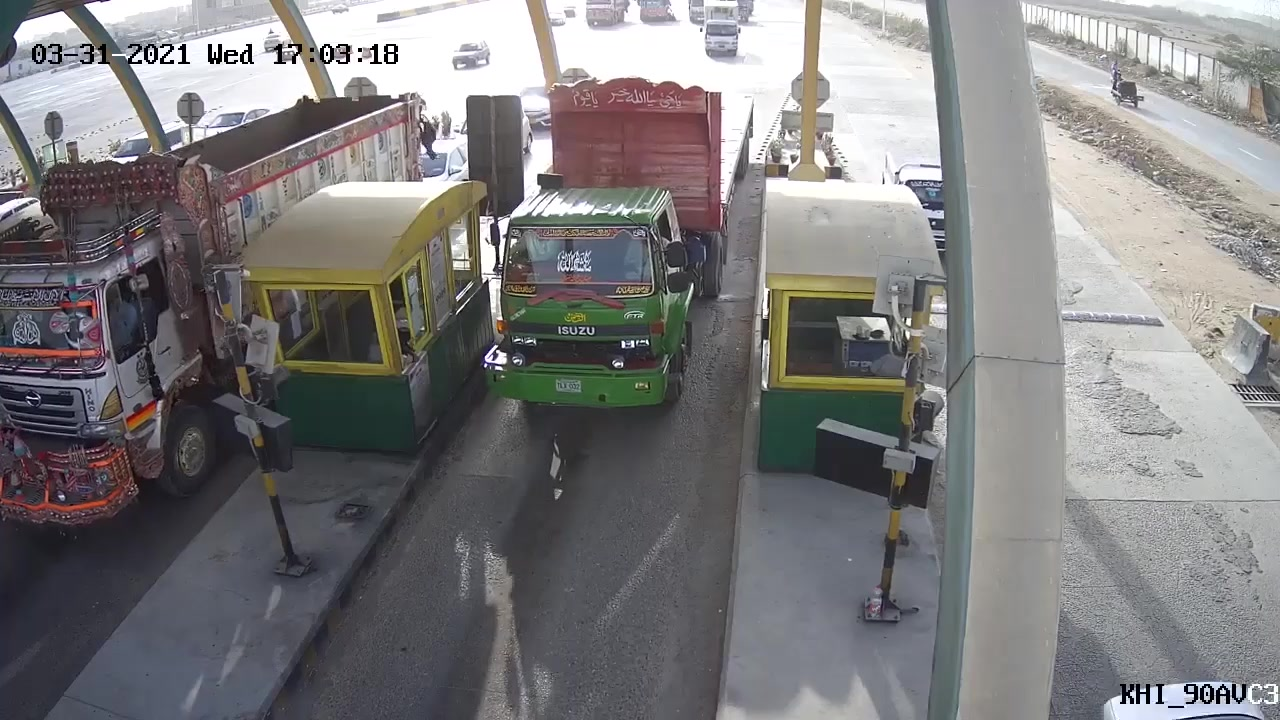F6: (473, 75, 764, 425)
